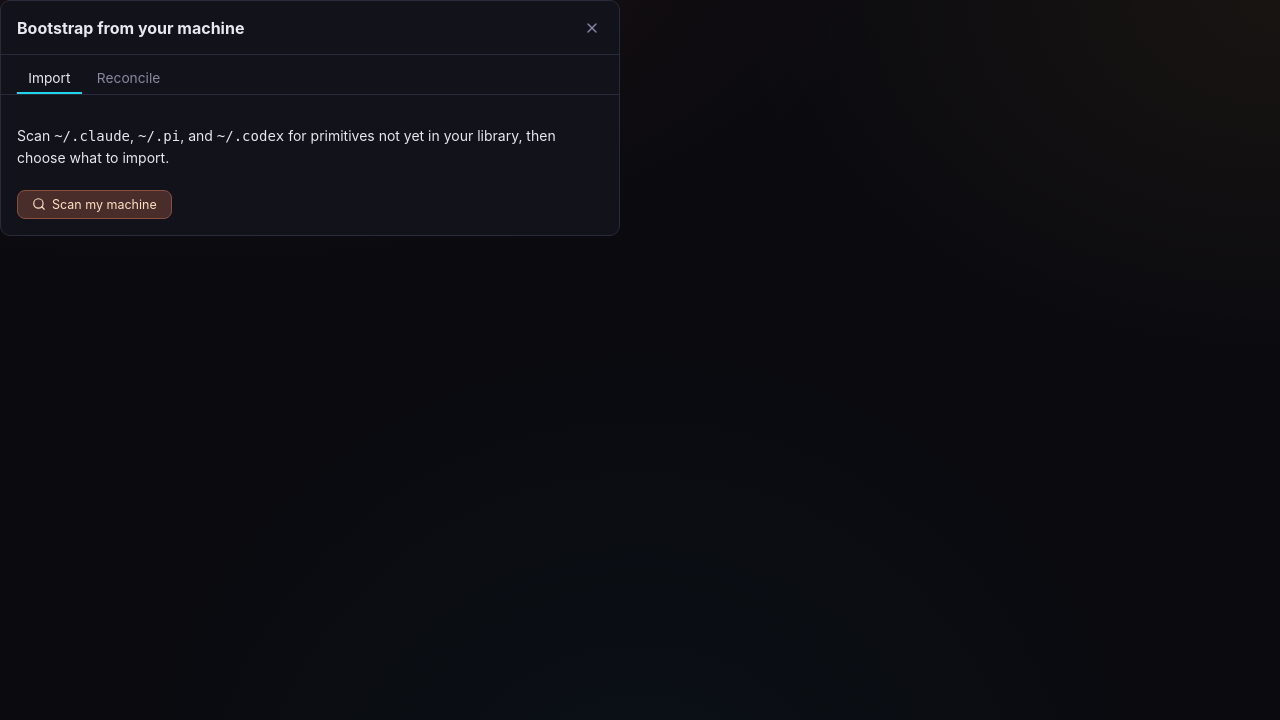
BootstrapWizard — result + skips › a partial run surfaces the skip remedy + a Resume
The width and height of the screenshot is (1280, 720).
Step 1. Click the button "Scan my machine" → (94, 204), box [17,190,172,219]
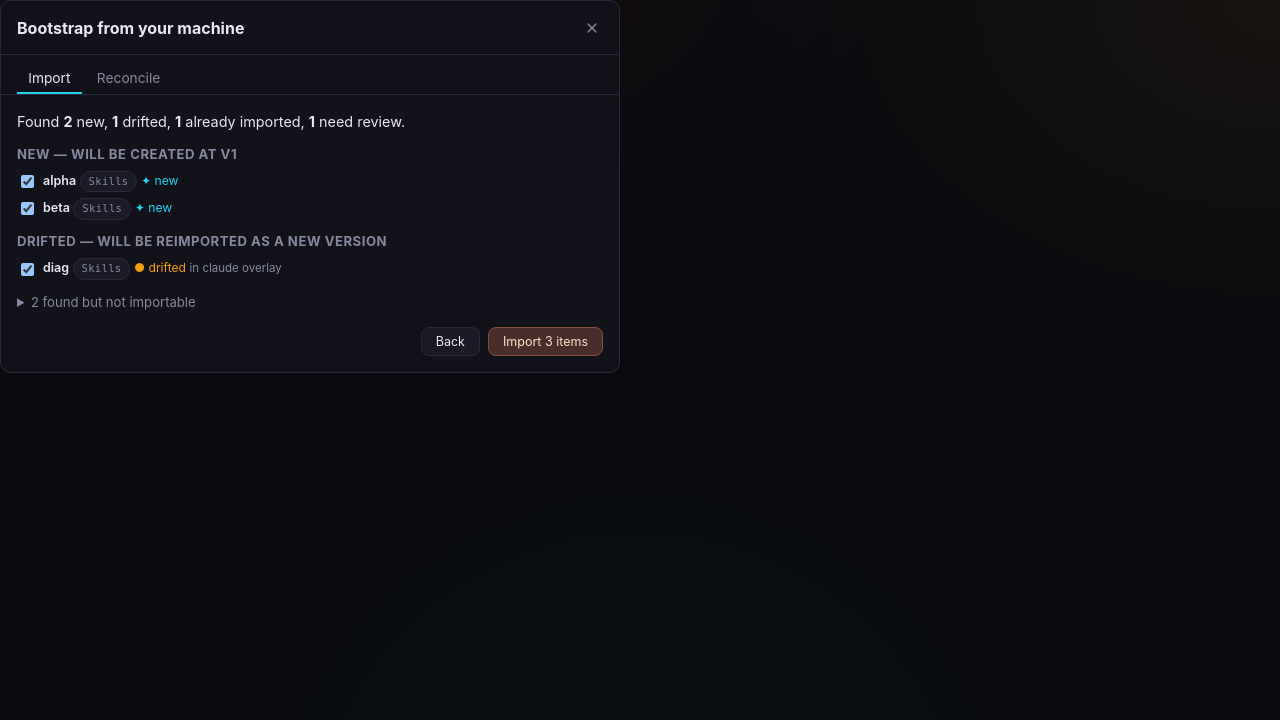
Step 2. Click the button "Import 3 items" → (546, 341), box [488,327,603,356]
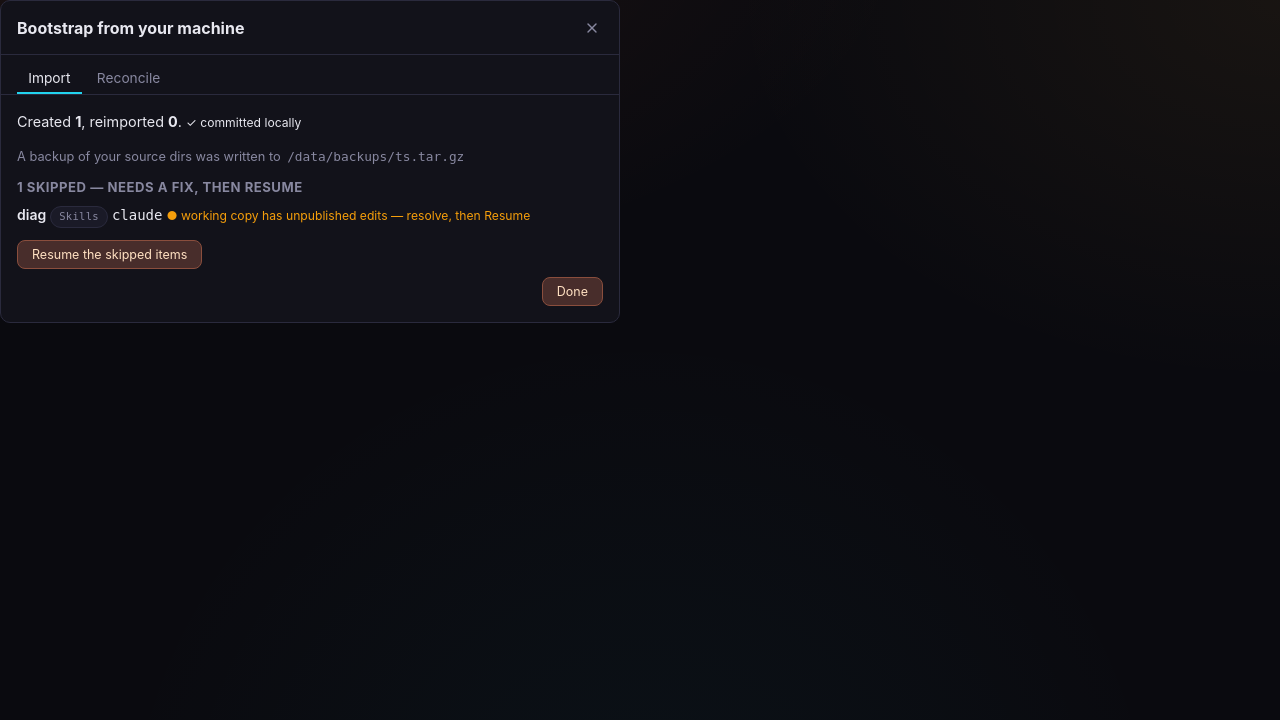
Expected: the heading "1 skipped — needs a fix, then Resume" is shown, [17,179,303,195]
Expected: the text "● working copy has unpublished edits — resolve, then Resume" is shown, [166,208,530,223]
Expected: the button "Resume the skipped items" is shown, [17,240,202,269]
